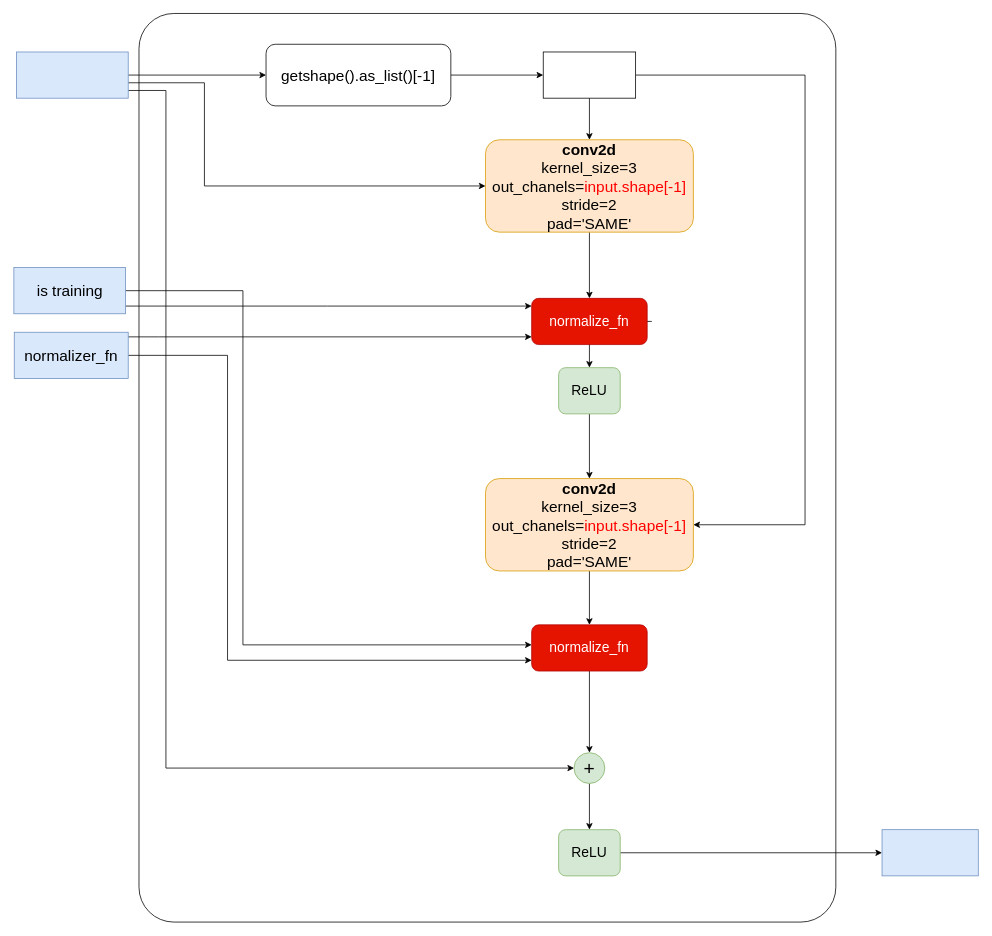
Some shapes in this 992 by 936 pixel diagram are drawn without their labels. The shapes that lost their labels are listed below. From the top down, each one's box as (x1, y1, x2, y2) in pixels, then its label:
(16, 51, 128, 98): input
(542, 51, 636, 98): channels
(881, 829, 978, 876): out
